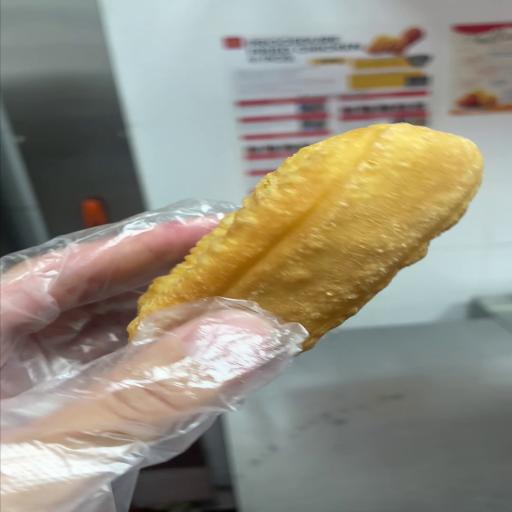brand_golden_good: (128, 123, 483, 350)
